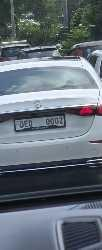License plate: (14, 114, 67, 133)
